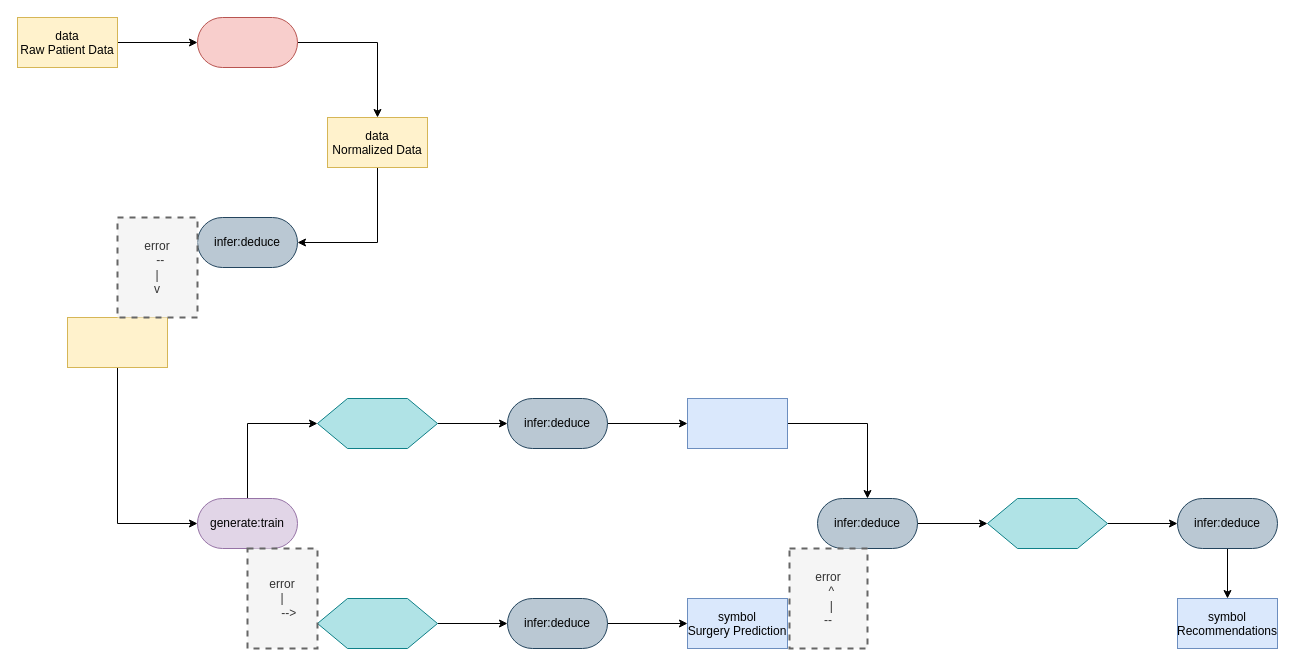
Some shapes in this 1295 by 667 pixel diagram are drawn without their labels. Here are the shapes that lost their labels. From the top down, the centre of each, then its label:
the point at 247,42: transform
the point at 117,342: data Reduced Dataset w/ Principal Components
the point at 377,423: model:statistical IVGR2
the point at 737,423: symbol Volume Growth Rate
the point at 1047,523: model:semantic FIS
the point at 377,623: model:statistical DHCN
